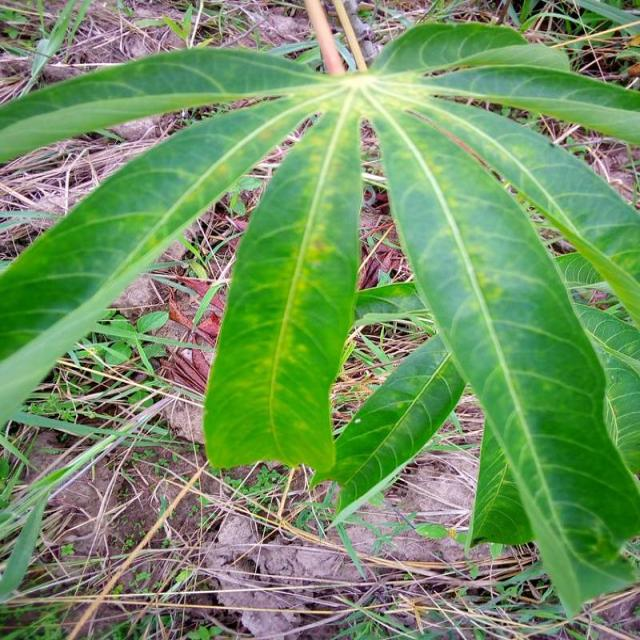cassava leaf: (1, 16, 638, 621), (366, 89, 638, 618), (201, 94, 363, 472)
